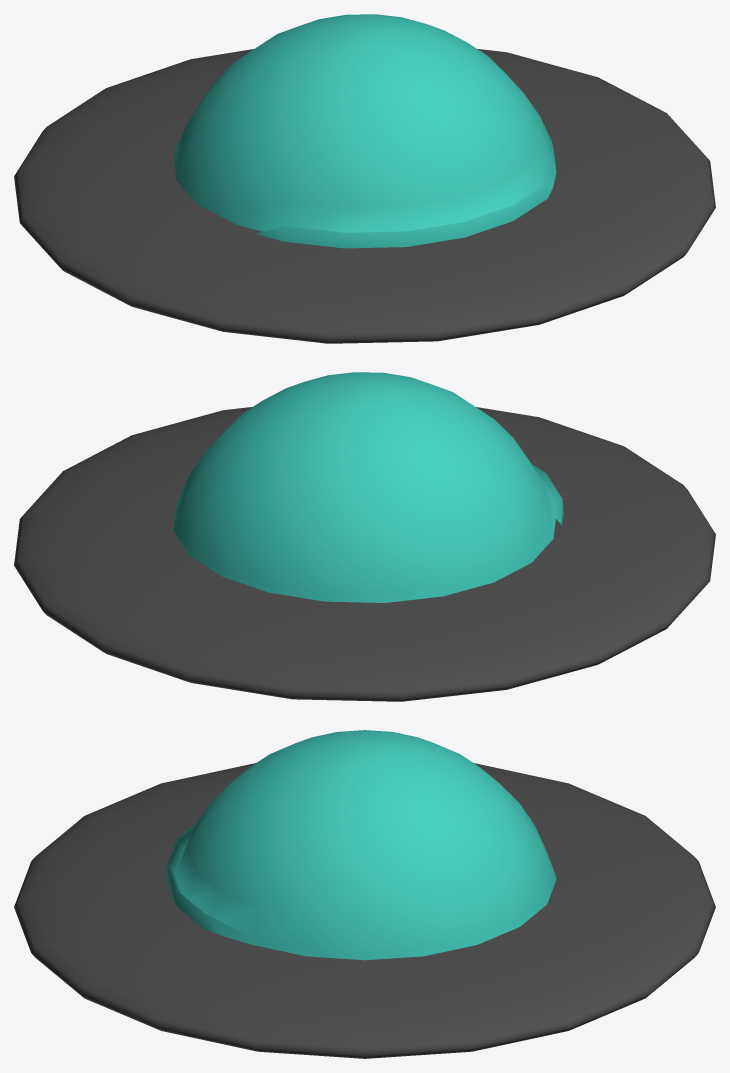
Rendered from Player.fbx.
3 renders of one model, top to bottom at view 1: azimuth 30°, elevation 25°; view 2: azimuth 150°, elevation 25°; view 3: azimuth 270°, elevation 25°, orthographic.
Visible parts, largest first — view 1: pSphere1, pSphere2; view 2: pSphere1, pSphere2; view 3: pSphere1, pSphere2.
Boxes of the visible parts, x1,y1,x2,y2 form: pSphere1: [14, 49, 715, 343]; pSphere2: [173, 14, 556, 248]; pSphere1: [14, 407, 715, 701]; pSphere2: [173, 372, 563, 602]; pSphere1: [14, 763, 715, 1058]; pSphere2: [166, 730, 556, 960].
Bounding box in the file's own units: 191 × 67.97 × 191.
